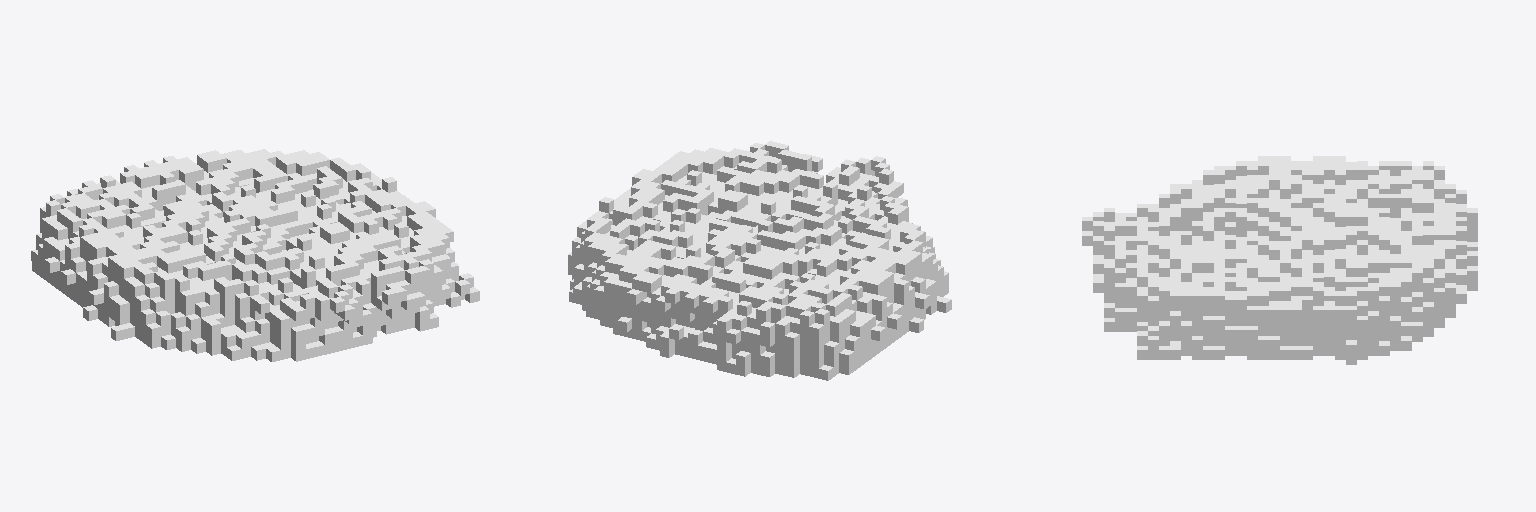
Rendered from DirtMounds-0-DirtMound2.obj.
The picture shows the model from 3 angles: view 1: azimuth 30°, elevation 25°; view 2: azimuth 150°, elevation 25°; view 3: azimuth 270°, elevation 25°; orthographic projection.
Parts seen in each view (by area): view 1: DirtMound2; view 2: DirtMound2; view 3: DirtMound2.
Boxes of the visible parts, x1,y1,x2,y2 form: DirtMound2: [31, 149, 479, 361]; DirtMound2: [568, 141, 951, 380]; DirtMound2: [1082, 156, 1477, 364].
Bounding box in the file's own units: 3.4 × 0.6 × 3.6.